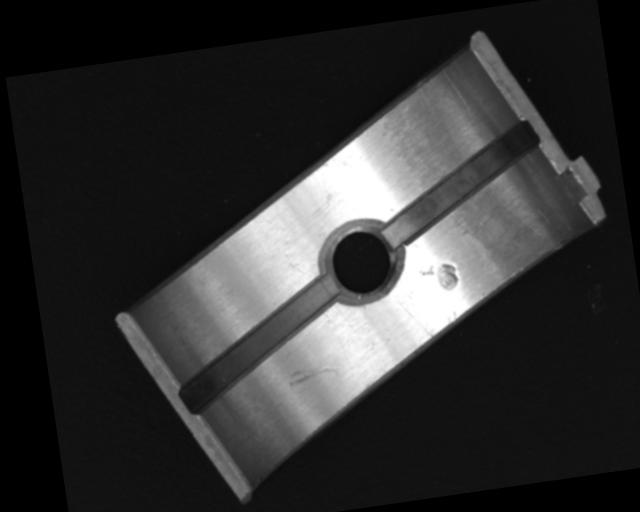bruise: (417, 260, 461, 296)
gap: (170, 274, 350, 415), (371, 121, 551, 248)
hole: (320, 216, 403, 309)
nick: (286, 360, 344, 388)
